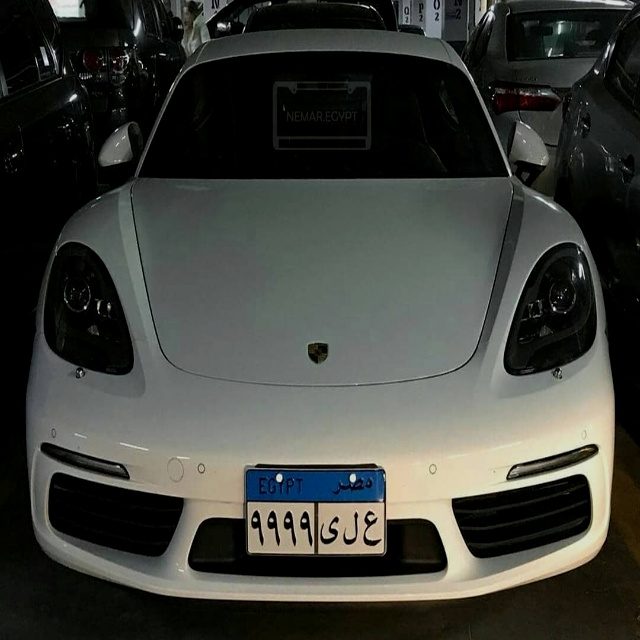License Plate: (240, 463, 389, 559)
